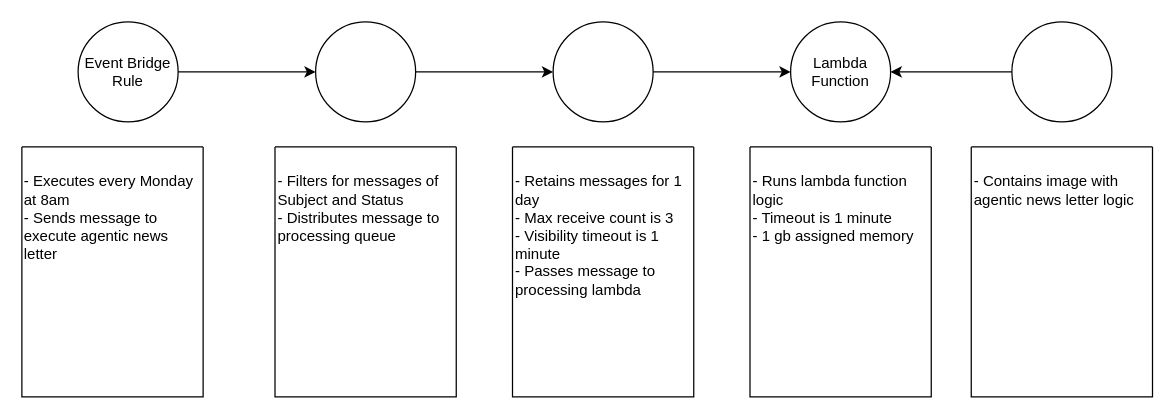
The diagram is 1175 pixels wide and 419 high, and some of its shapes have lost their labels. The shapes that lost their labels are listed below. From the top down, each one's centre as x and y in pixels, then its label:
point 365,71: Sns Topic
point 602,71: Sqs Queue
point 1061,71: Ecr Repository
